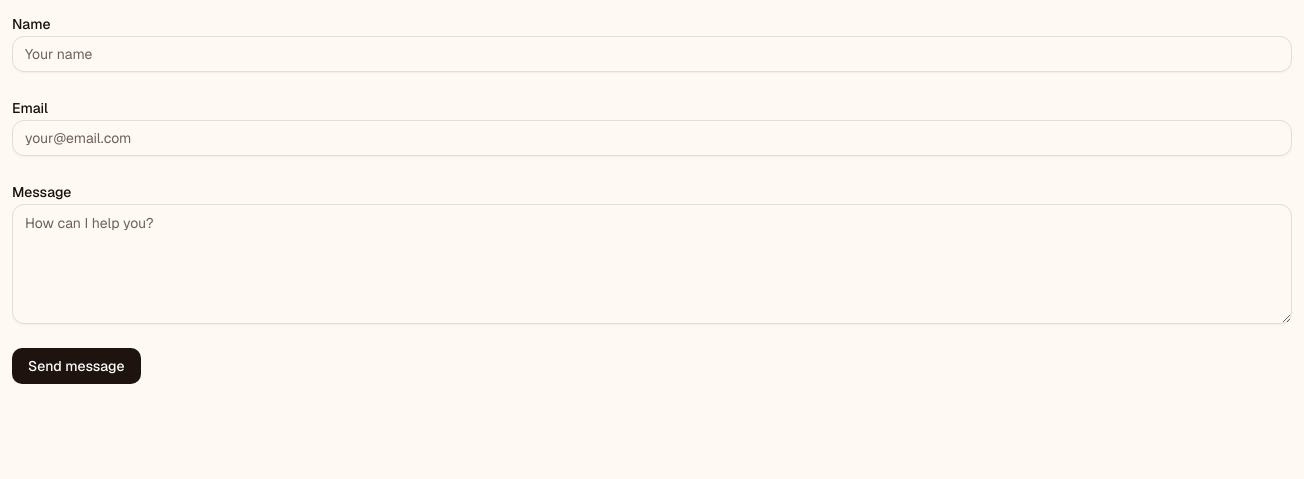
ContactForm › success state after submission (Requirement 8.3) › shows an error banner instead of success when the server rejects the submission
Type "Jane Doe" into the field labelled "Name" at point(652, 54), box x1=12 y1=36 x2=1292 y2=72
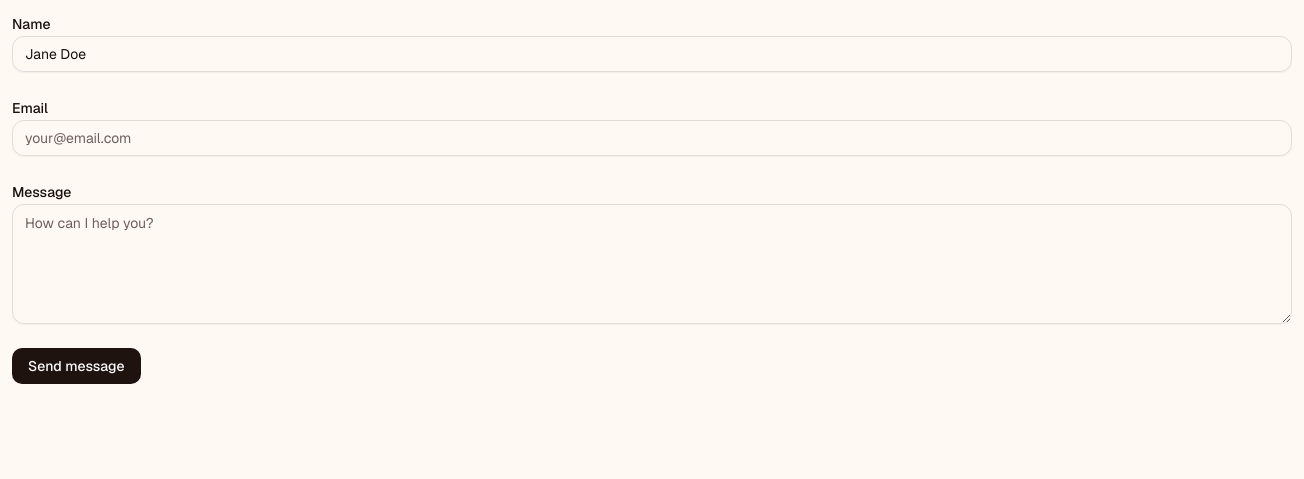
Type "jane@example.com" into the field labelled "Email" at point(652, 138), box x1=12 y1=120 x2=1292 y2=156
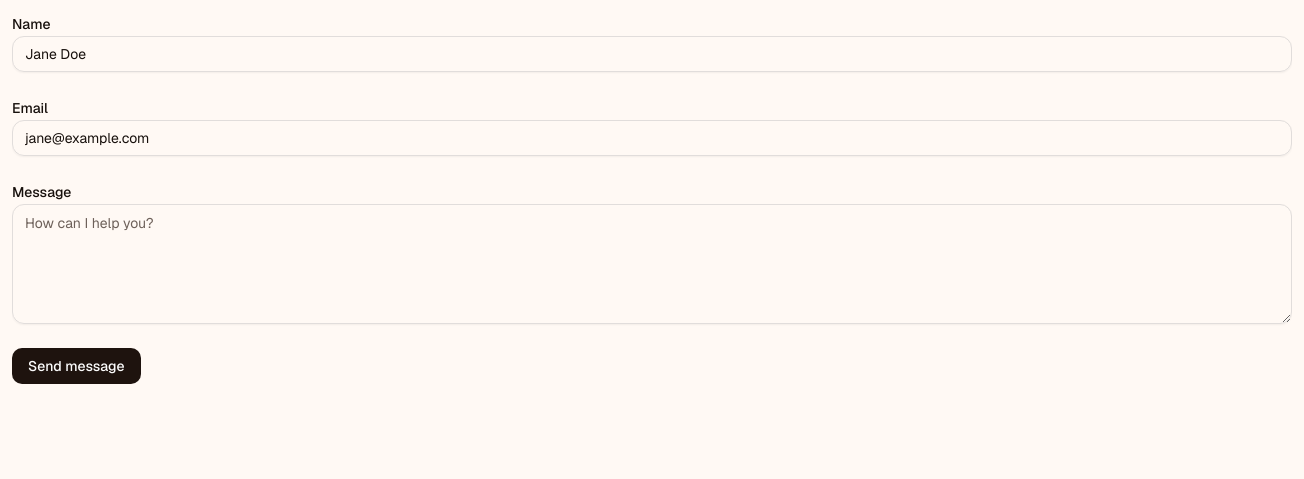
Type "I would love to discuss a collaboration opportunity." into the text box labelled "Message" at point(652, 264), box x1=12 y1=204 x2=1292 y2=324
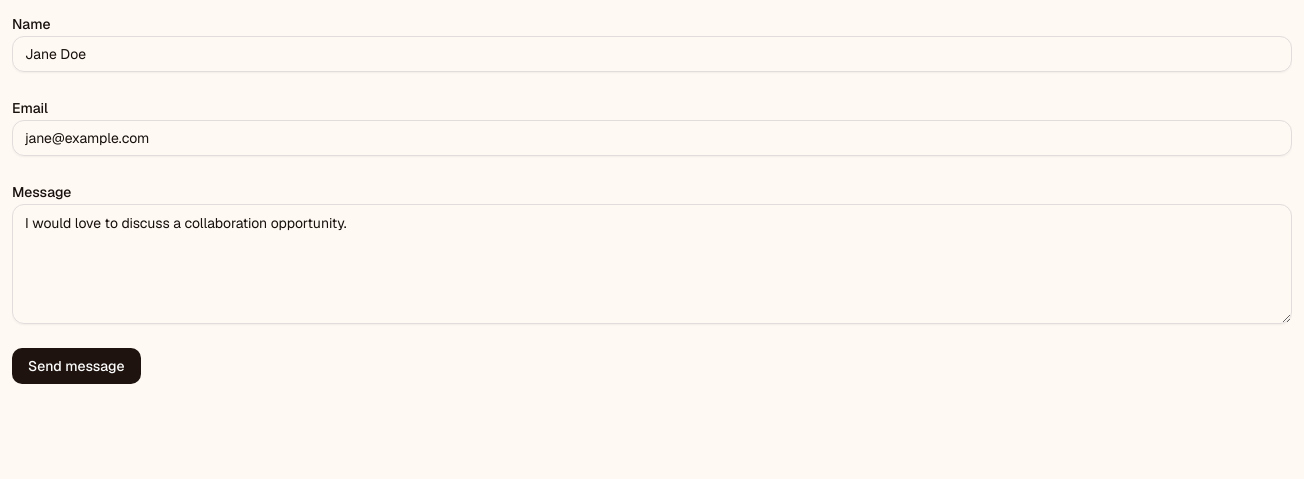
Click the button "Send message" at point(76, 366), box x1=12 y1=348 x2=140 y2=384
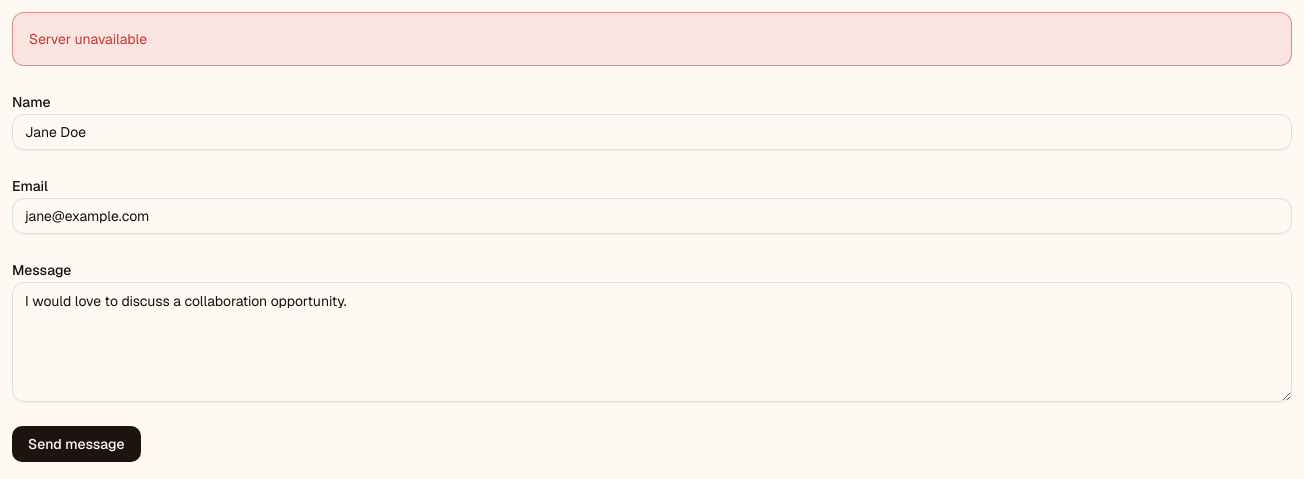
expect the message reads "Server unavailable": met, box x1=29 y1=30 x2=147 y2=48
